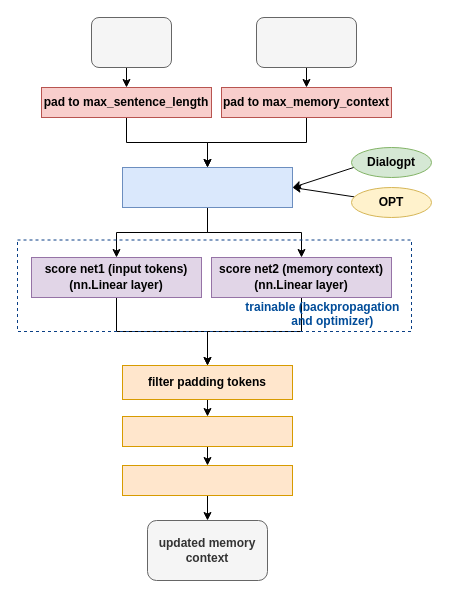
Some shapes in this 449 by 598 pixel diagram are drawn without their labels. Here are the shapes that lost their labels. From the top down, the centre of each, then its label:
At point 131,42: "new input tokens".
At point 306,42: "previous memory context".
At point 207,187: "embedding layer (embedding size = 768)".
At point 207,431: "combine".
At point 207,480: "remove duplicates".
